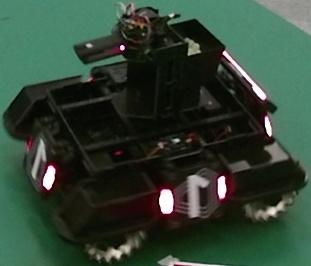armor_1: (158, 175, 226, 215)
front_1: (26, 133, 48, 193)
left_1: (173, 167, 223, 220)
light: (222, 50, 267, 101)
